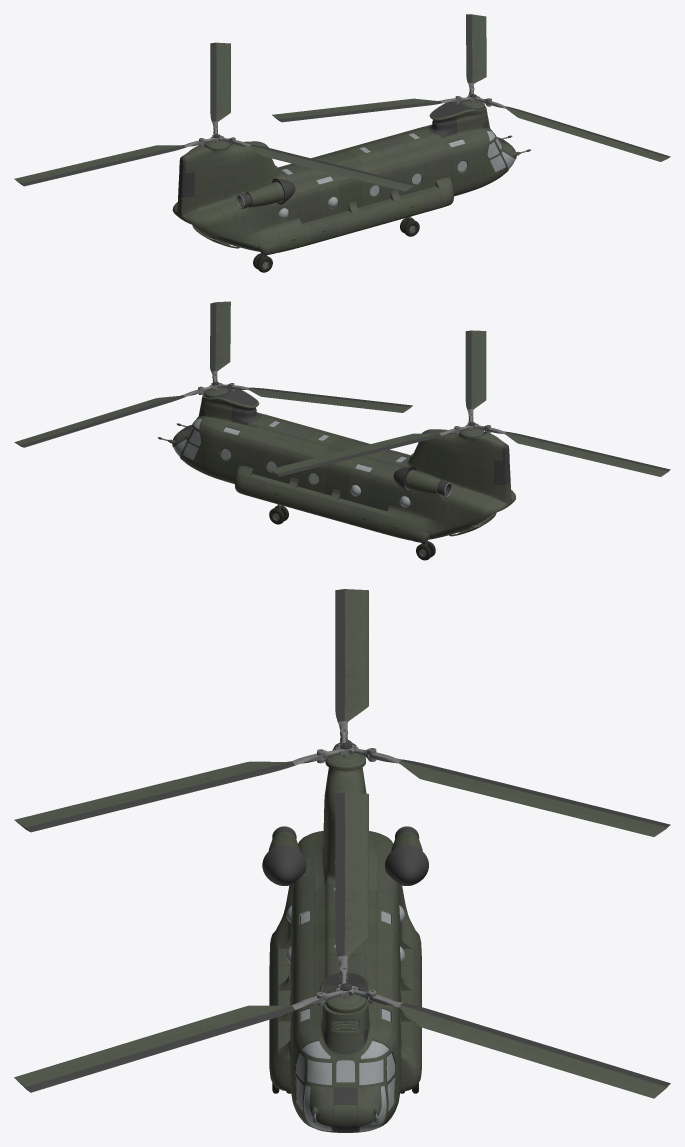
Rendered from chinook-meshopt.glb.
3 renders of one model, top to bottom at view 1: azimuth 30°, elevation 25°; view 2: azimuth 150°, elevation 25°; view 3: azimuth 270°, elevation 25°, orthographic. The views are drawn at different scales.
Parts seen in each view (by area): view 1: Retopo_Cube.013, Cylinder.004, Cylinder.009, Retopo_Cube.017; view 2: Retopo_Cube.013, Cylinder.004, Cylinder.009, Retopo_Cube.017; view 3: Retopo_Cube.013, Cylinder.009, Cylinder.004, Retopo_Cube.017.
Boxes of the visible parts, box(x1,y1,x2,y2) form: Retopo_Cube.013: box(172, 102, 530, 255); Cylinder.004: box(14, 42, 414, 191); Cylinder.009: box(272, 14, 670, 161); Retopo_Cube.017: box(278, 131, 515, 219); Retopo_Cube.013: box(157, 389, 515, 542); Cylinder.004: box(270, 330, 670, 476); Cylinder.009: box(14, 301, 412, 447); Retopo_Cube.017: box(173, 418, 410, 507); Retopo_Cube.013: box(262, 740, 428, 1132); Cylinder.009: box(14, 792, 670, 1098); Cylinder.004: box(14, 589, 670, 836); Retopo_Cube.017: box(286, 887, 404, 1131).
Size of the model in its own units: 2621 by 576 by 1630.
4 materials, 3 textured.
